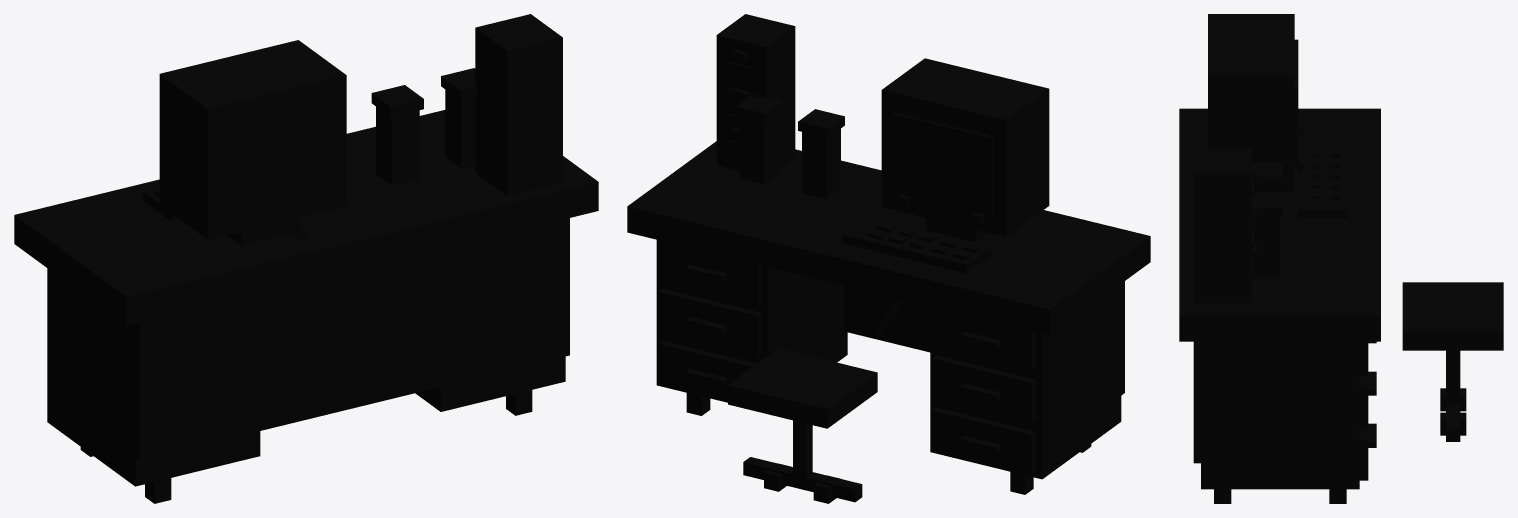
The model's file is lab_workbench.obj.
3 views of the same model, side by side, from view 1: azimuth 30°, elevation 25°; view 2: azimuth 150°, elevation 25°; view 3: azimuth 270°, elevation 25° (orthographic). The views are drawn at different scales.
Bounding box in the file's own units: 0.875 × 0.682 × 0.579.
